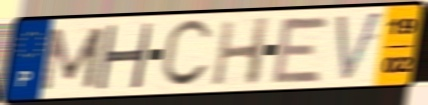C: (157, 17, 216, 91)
E: (269, 15, 333, 85)
H: (209, 15, 273, 88), (92, 22, 156, 90)
M: (36, 25, 107, 93)
V: (333, 8, 386, 85)
